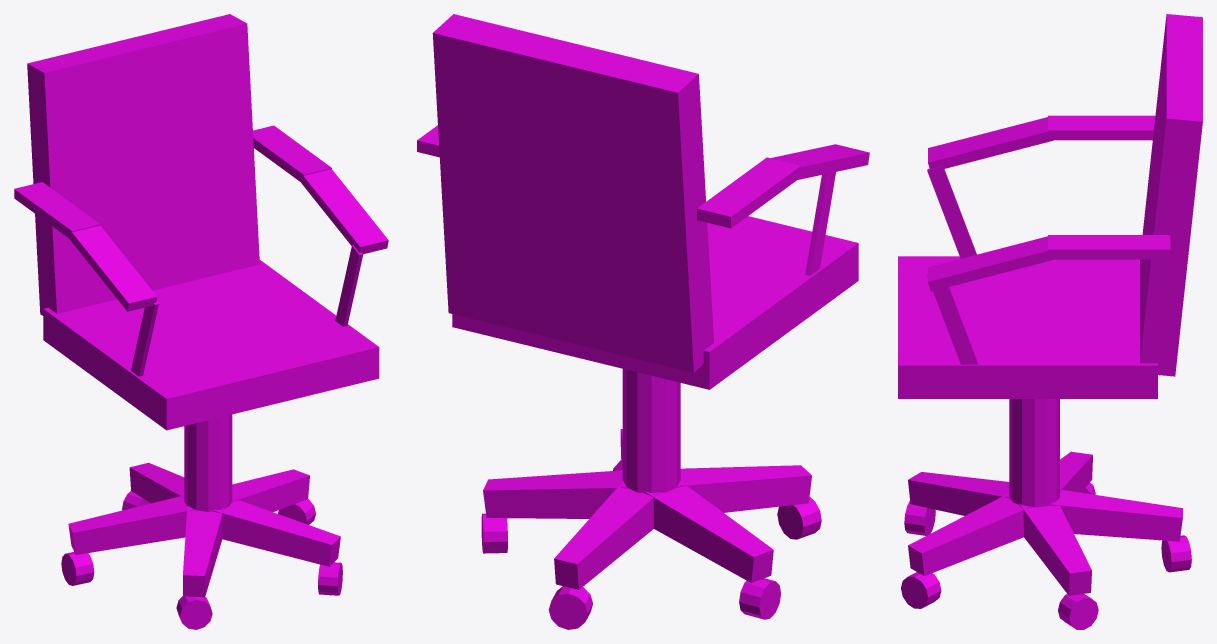
Rendered from SM_OfficeChairCollider.fbx.
The picture shows the model from 3 angles, left to right: view 1: azimuth 30°, elevation 25°; view 2: azimuth 150°, elevation 25°; view 3: azimuth 270°, elevation 25°; orthographic projection. The views are drawn at different scales.
Parts seen in each view (by area): view 1: OfficeChairCollision; view 2: OfficeChairCollision; view 3: OfficeChairCollision.
Boxes of the visible parts, x1,y1,x2,y2 form: OfficeChairCollision: (14,14,388,629); OfficeChairCollision: (417,14,869,629); OfficeChairCollision: (898,14,1202,629).
Bounding box in the file's own units: 60.29 × 106 × 58.04.
